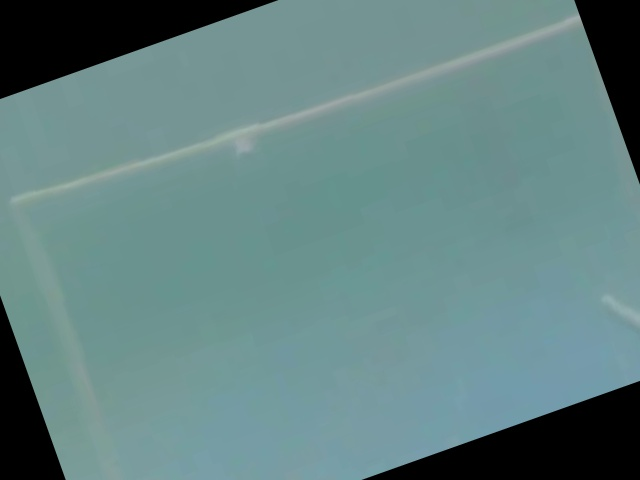gate: (10, 14, 583, 480)
